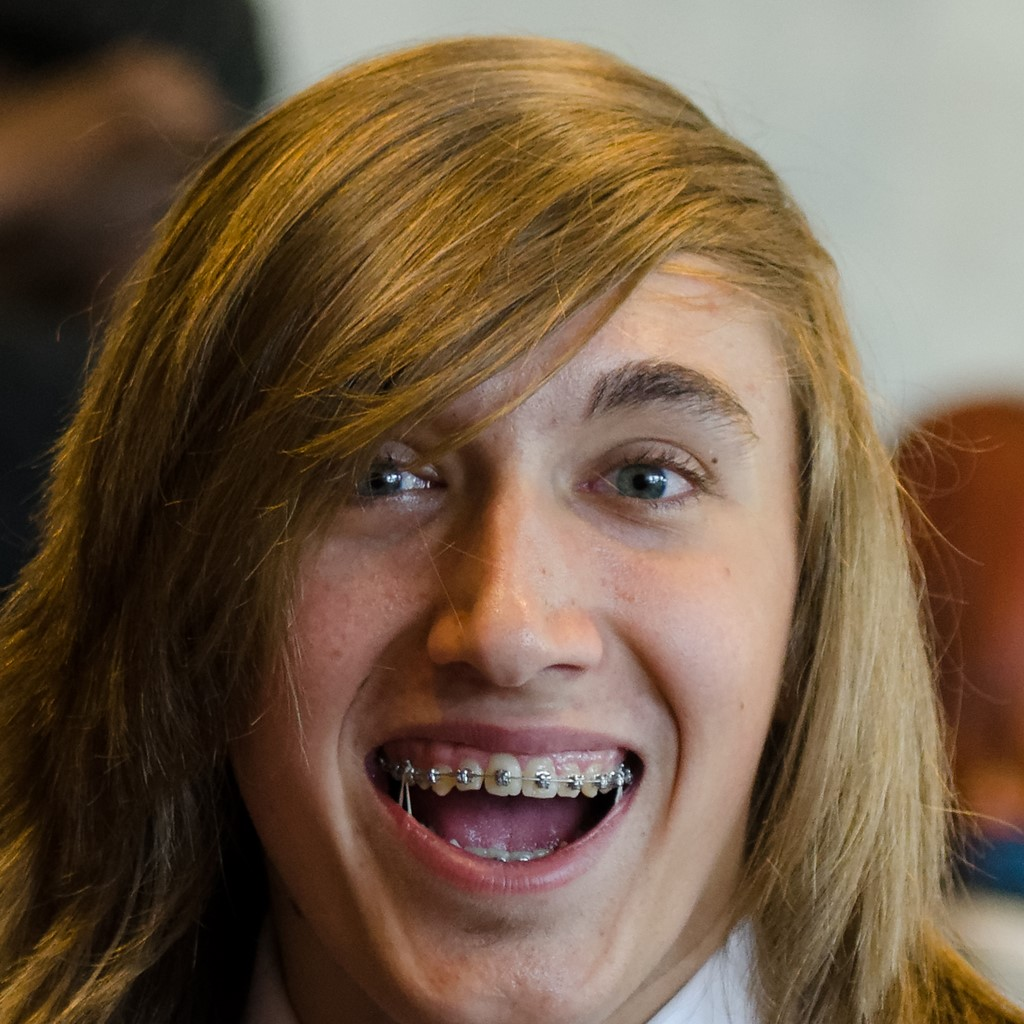sin_mascara: (189, 147, 787, 1024)
